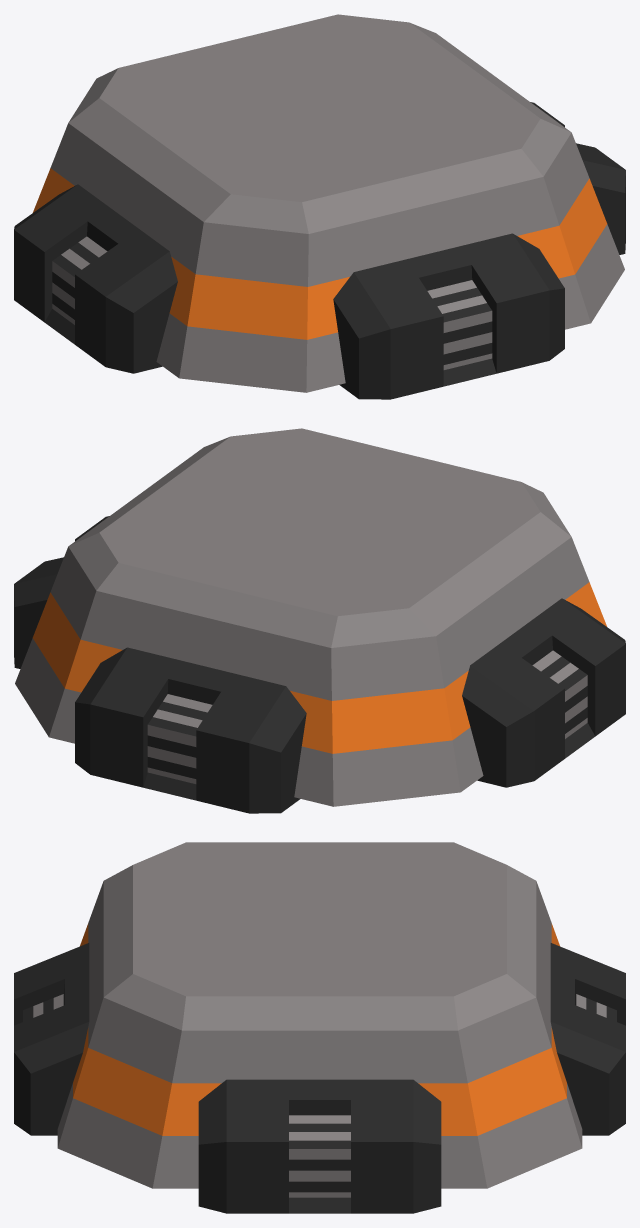
File: scifi_scifi-turret-base-square-big.fbx
3 renders of one model, top to bottom at view 1: azimuth 30°, elevation 25°; view 2: azimuth 150°, elevation 25°; view 3: azimuth 270°, elevation 25°, orthographic.
Visible parts, largest first — view 1: scifi_scifi_turret_base_square_big; view 2: scifi_scifi_turret_base_square_big; view 3: scifi_scifi_turret_base_square_big.
Part boxes in pixels (<box>): scifi_scifi_turret_base_square_big: <box>14,14,625,399</box>; scifi_scifi_turret_base_square_big: <box>14,428,625,813</box>; scifi_scifi_turret_base_square_big: <box>14,842,625,1213</box>.
Size of the model in its own units: 200 by 59.48 by 200.
